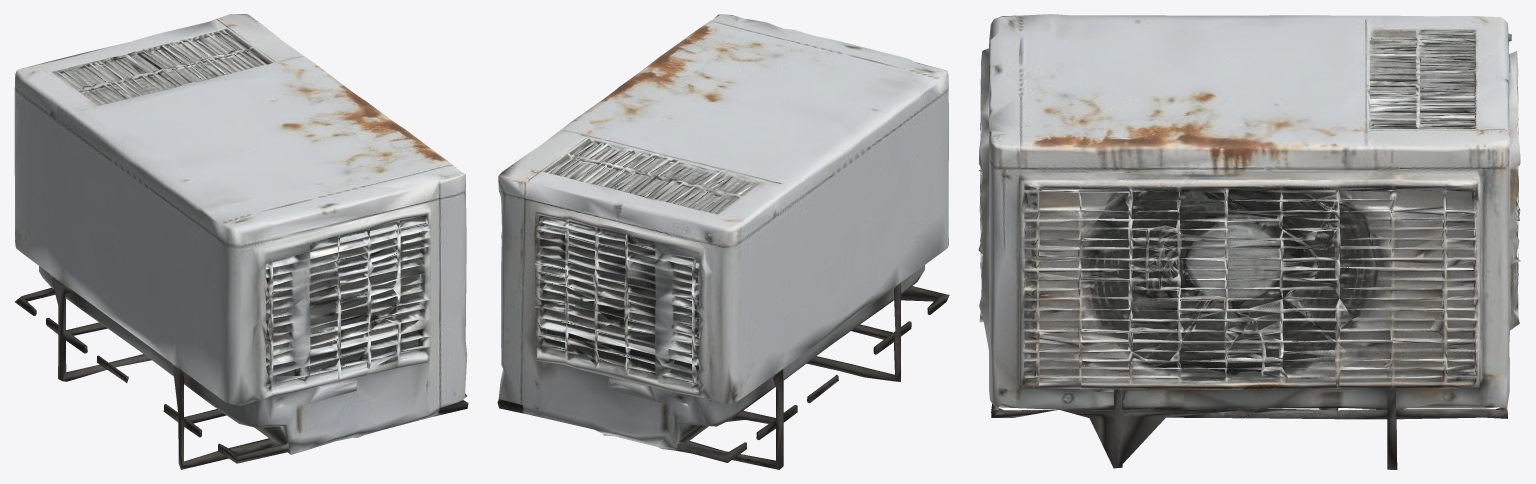
The model's file is acunit.glb.
3 renders of one model, left to right at view 1: azimuth 30°, elevation 25°; view 2: azimuth 150°, elevation 25°; view 3: azimuth 270°, elevation 25°, orthographic. The views are drawn at different scales.
Parts seen in each view (by area): view 1: tripo_node_41140502-98ef-472b-914c-9178478ee6cd; view 2: tripo_node_41140502-98ef-472b-914c-9178478ee6cd; view 3: tripo_node_41140502-98ef-472b-914c-9178478ee6cd.
Boxes of the visible parts, <box> form: tripo_node_41140502-98ef-472b-914c-9178478ee6cd: <box>14,14,468,469</box>; tripo_node_41140502-98ef-472b-914c-9178478ee6cd: <box>497,14,949,469</box>; tripo_node_41140502-98ef-472b-914c-9178478ee6cd: <box>978,14,1520,469</box>.
Bounding box in the file's own units: 0.5186 × 0.5606 × 0.85.
Materials: 1 (1 with a texture image).
